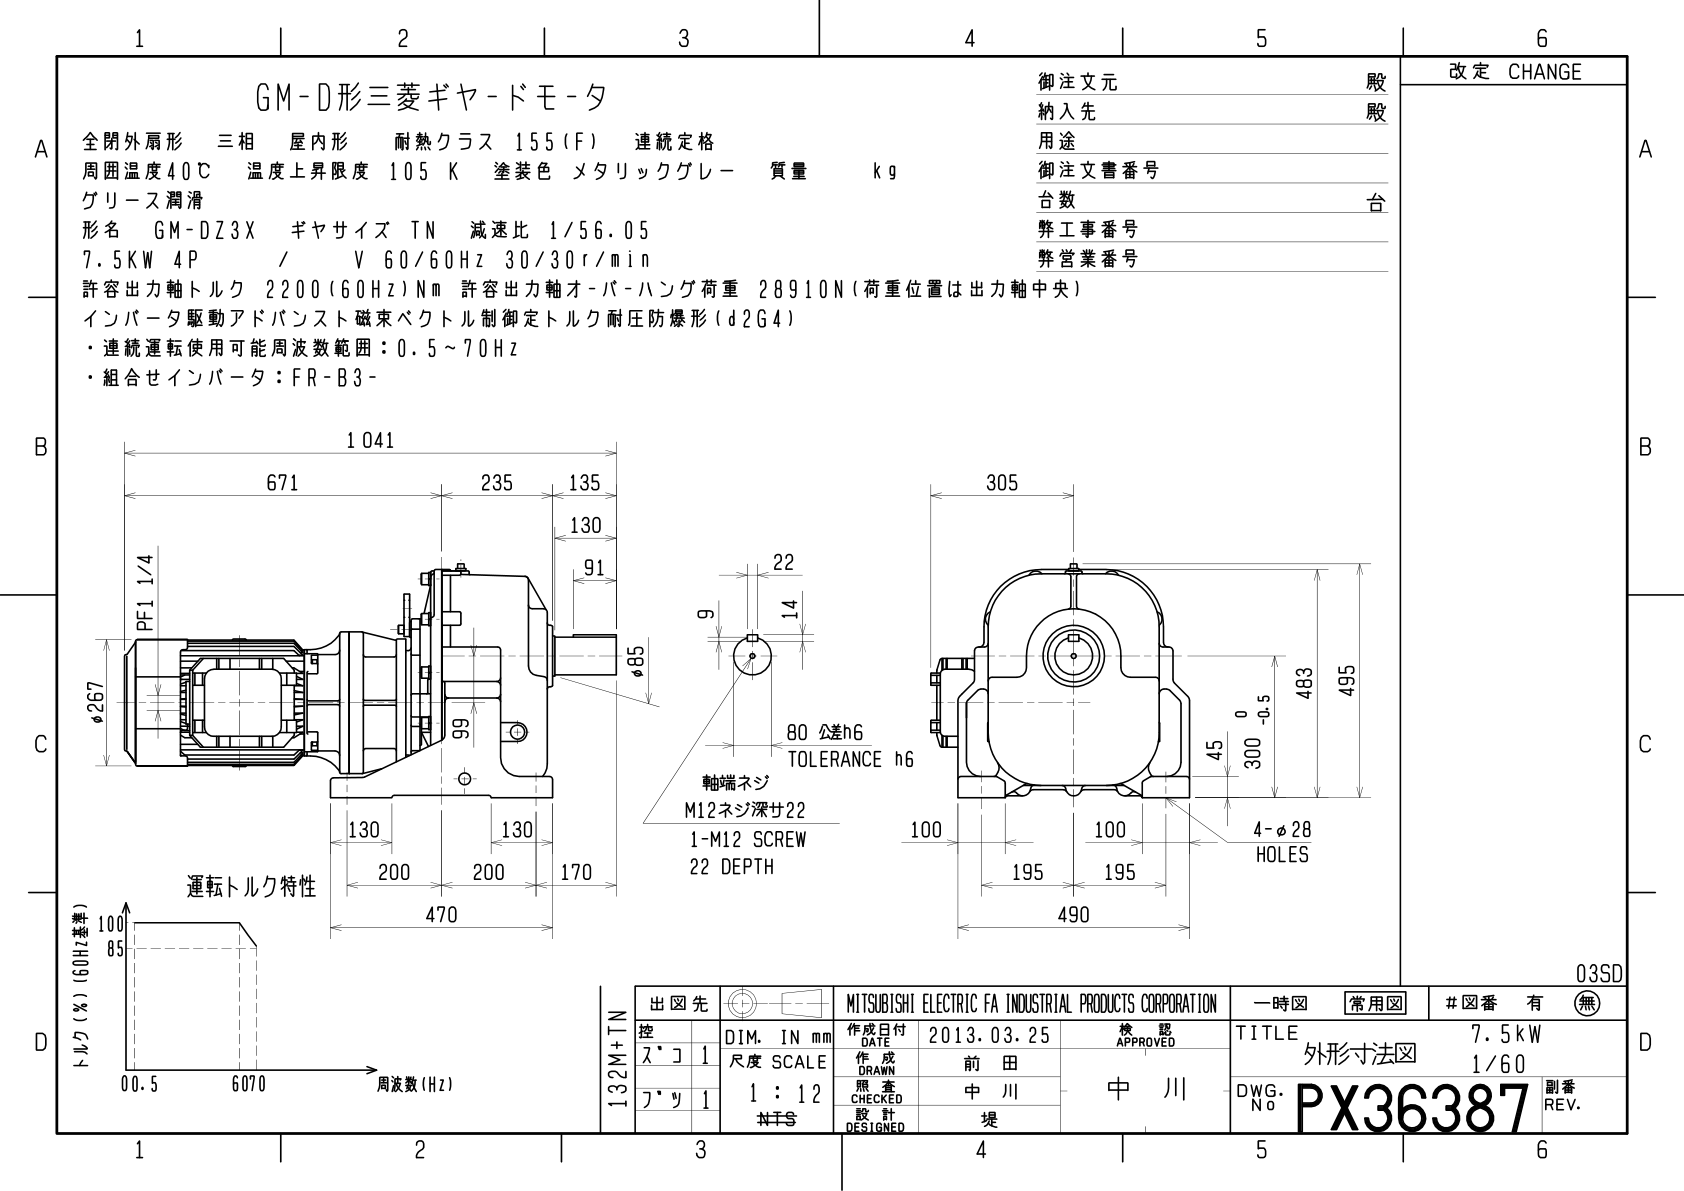GM_D_制御屋内_三相_脚: (64, 409, 1395, 980)
